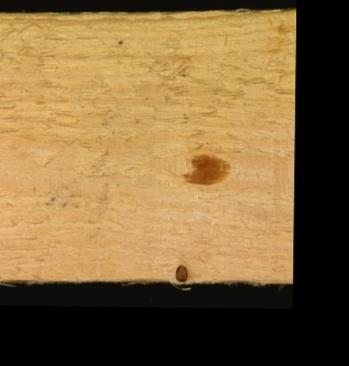dry_knot: (171, 263, 189, 283)
wave: (119, 273, 261, 291)
